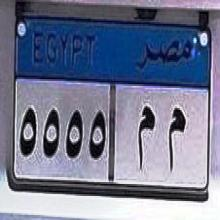5: (62, 105, 85, 166), (40, 105, 62, 163), (17, 103, 39, 160), (88, 108, 108, 164)
meem: (165, 98, 187, 182), (136, 102, 156, 176)
